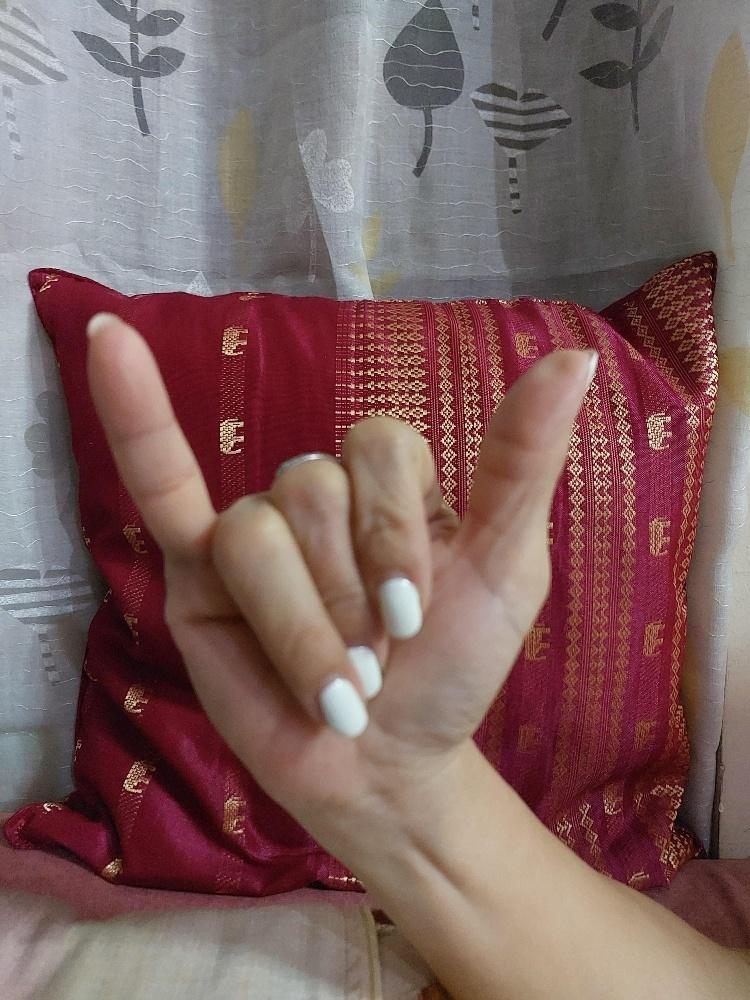y: (79, 303, 601, 808)
